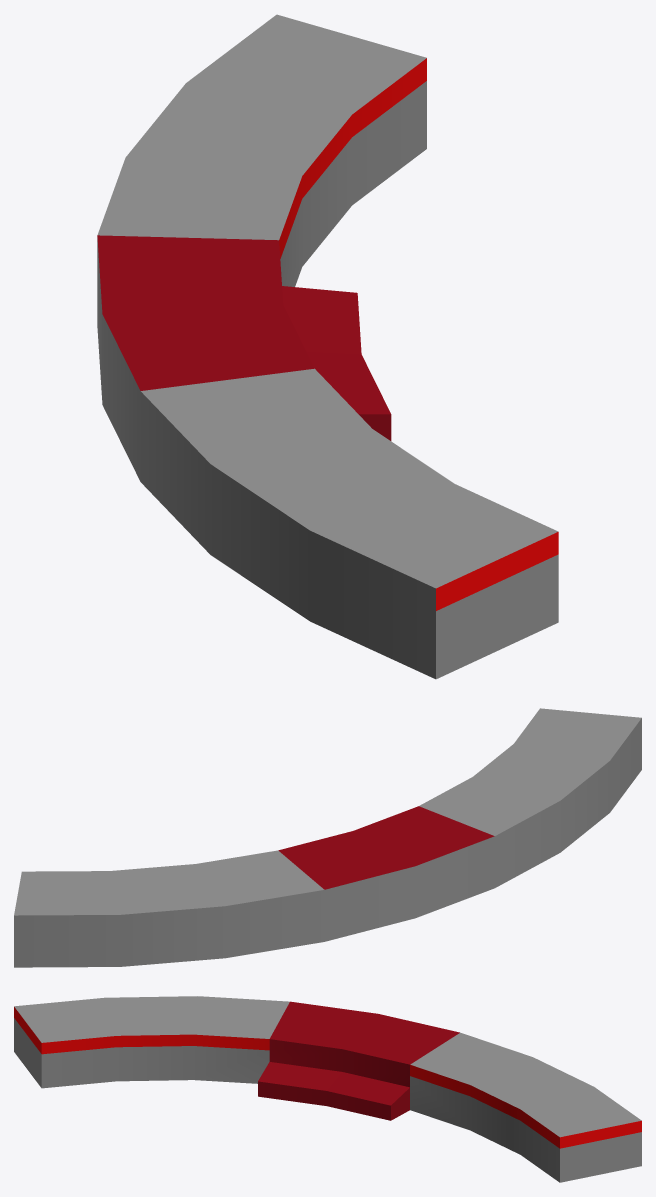
The model's file is Gradas2.FBX.
The picture shows the model from 3 angles, top to bottom: view 1: azimuth 30°, elevation 25°; view 2: azimuth 150°, elevation 25°; view 3: azimuth 270°, elevation 25°; orthographic projection. The views are drawn at different scales.
Parts seen in each view (by area): view 1: Object012; view 2: Object012; view 3: Object012.
Part boxes in pixels (box(x1,y1,x2,y2)): Object012: box(97, 14, 558, 679); Object012: box(14, 708, 641, 967); Object012: box(14, 996, 641, 1182).
Bounding box in the file's own units: 19.17 × 2.88 × 36.03.
